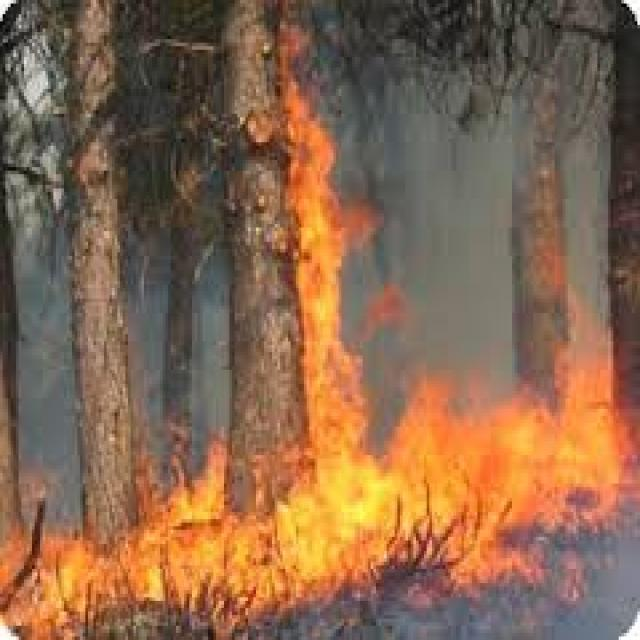Fire: (308, 405, 636, 596), (6, 472, 298, 628), (280, 26, 365, 386)
Smoke: (398, 81, 536, 362), (134, 236, 225, 408), (13, 235, 77, 446)
